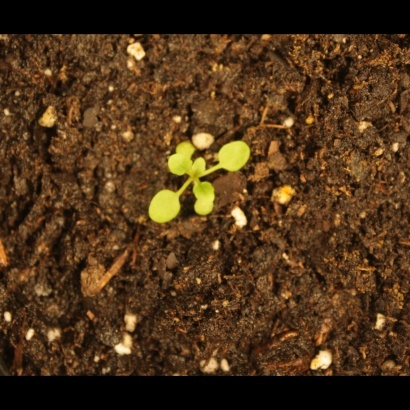leaf: (149, 188, 187, 226), (217, 138, 253, 175), (173, 137, 200, 162), (192, 198, 217, 224), (195, 181, 219, 208), (169, 155, 195, 179), (190, 156, 213, 180)
